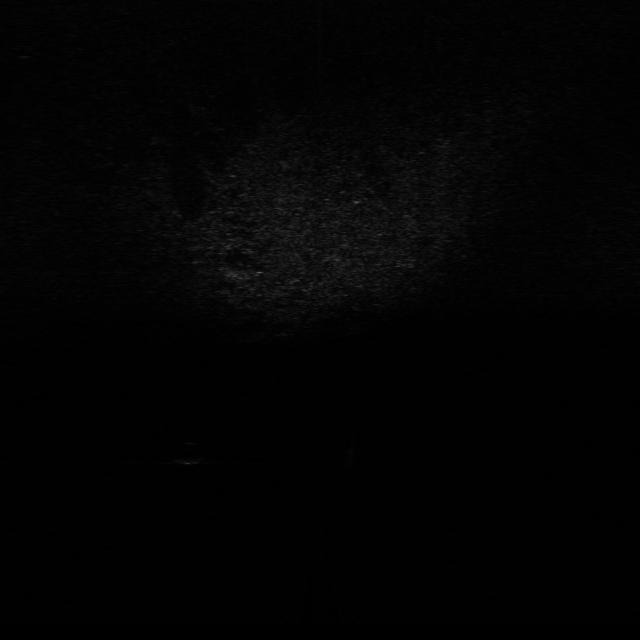ball: (166, 438, 206, 467)
